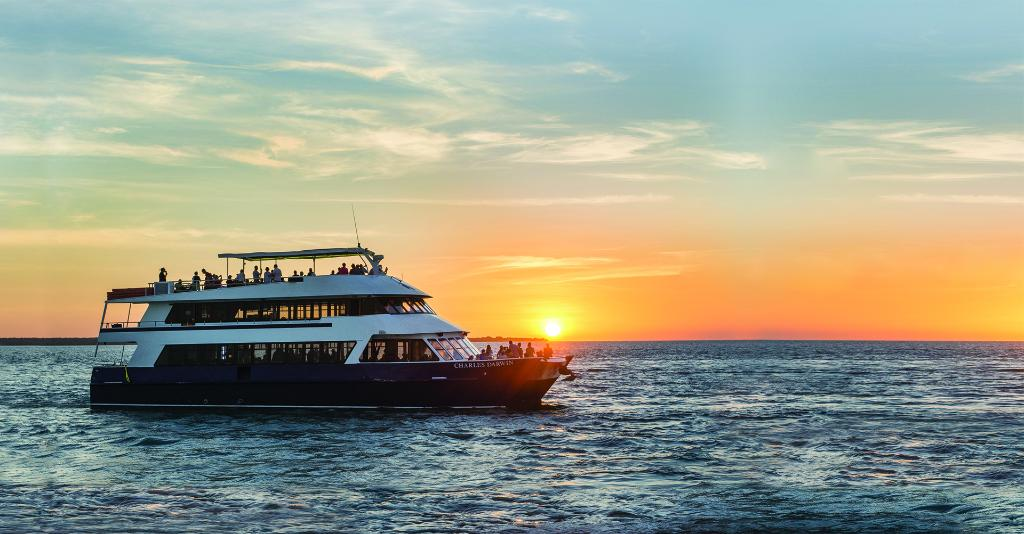PassengerShip: (79, 208, 587, 418)
